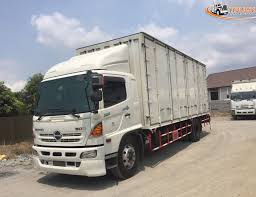truck: (32, 32, 210, 182)
